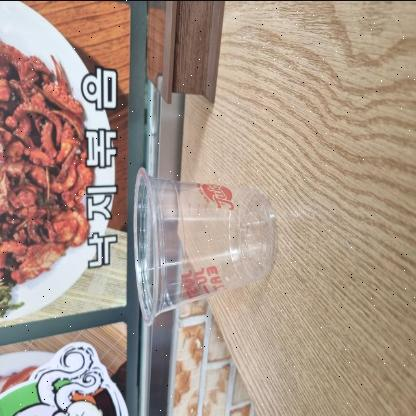Others: (131, 164, 277, 328)
